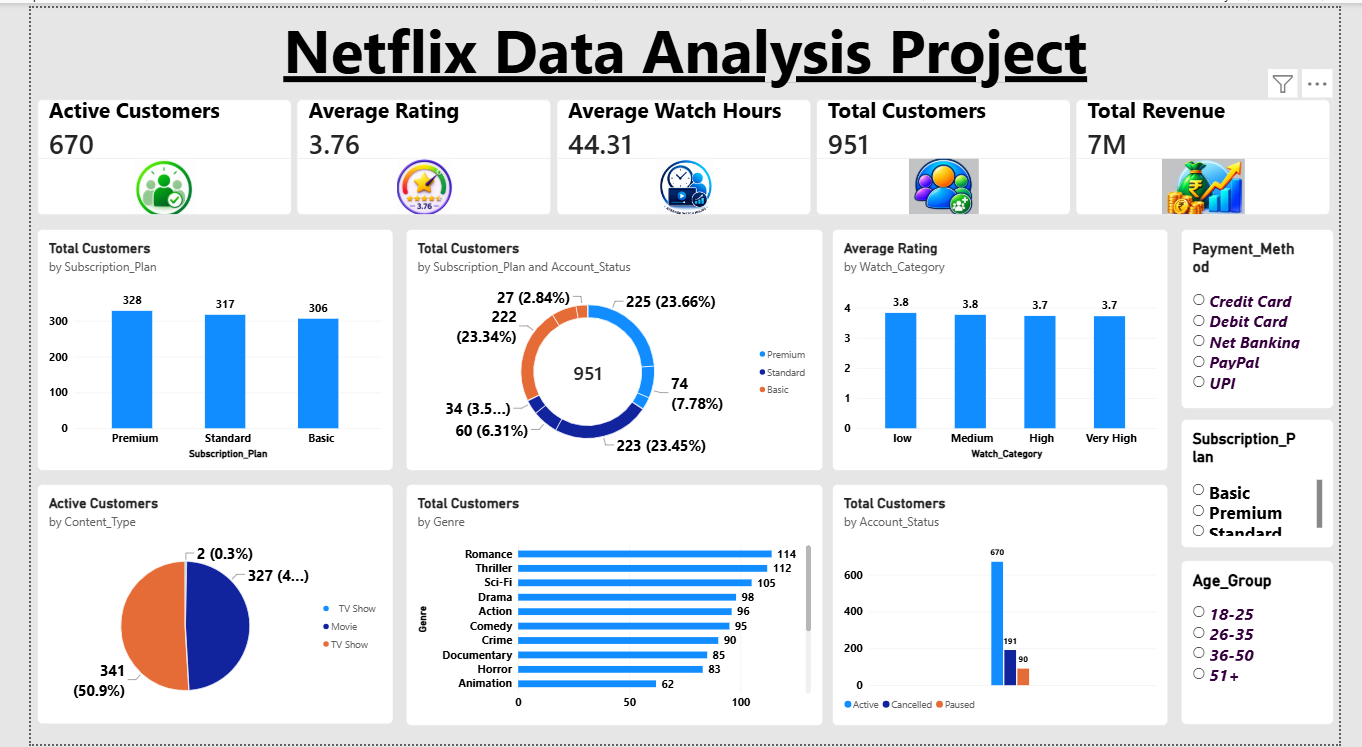

What the dashboard file says about the page in this screenshot:
{"tool":"powerbi","page":{"name":"Page 1","canvas":[1920,1080],"ordinal":0},"visuals":[{"type":"textbox","box":[0,0,1920,204],"z":0},{"type":"cardVisual","fields":{"Data":["Dax Measure.Active Customers","Dax Measure.Average Rating","Dax Measure.Average Watch Hours","Dax Measure.Total Customers","Dax Measure.Total Revenue"]},"box":[9.3,133.5,1901.8,170.5],"z":1000},{"type":"columnChart","fields":{"Y":["Dax Measure.Total Customers"],"Category":["netflix customers.Subscription_Plan"]},"box":[9.3,324.4,522.7,354],"z":2000},{"type":"barChart","fields":{"Category":["netflix customers.Genre"],"Y":["Dax Measure.Total Customers"]},"box":[550.5,698.8,611.7,354],"z":3000},{"type":"donutChart","fields":{"Category":["netflix customers.Subscription_Plan"],"Y":["Dax Measure.Total Customers"],"Series":["netflix customers.Account_Status"]},"box":[550.5,324.4,611.7,354],"z":4000},{"type":"pieChart","fields":{"Y":["Dax Measure.Active Customers"],"Series":["netflix customers.Content_Type"]},"box":[9.3,698.8,522.7,352.2],"z":5000},{"type":"listSlicer","fields":{"Values":["netflix customers.Payment_Method"]},"box":[1686.8,324.4,224.3,263.2],"z":6000},{"type":"listSlicer","fields":{"Values":["netflix customers.Subscription_Plan"]},"box":[1686.8,604.3,224.3,189.1],"z":7000},{"type":"listSlicer","fields":{"Values":["netflix customers.Age_Group"]},"box":[1686.8,810,224.3,241],"z":8000},{"type":"clusteredColumnChart","fields":{"Y":["Dax Measure.Total Customers"],"Series":["netflix customers.Account_Status"]},"box":[1175.2,698.8,493.1,354],"z":9000},{"type":"clusteredColumnChart","fields":{"Y":["Dax Measure.Average Rating"],"Category":["netflix customers.Watch_Category"]},"box":[1175.2,324.4,493.1,354],"z":10000}]}

Visuals, with their boxes in screenshot pixels (x1, y1, x2, y2), scaled from the page's 1920x1080 canvas onto the 1362x747 screenshot:
textbox: 0/0/1361/141
cardVisual - Dax Measure.Active Customers x Dax Measure.Average Rating: 7/92/1356/210
columnChart - Dax Measure.Total Customers x netflix customers.Subscription_Plan: 7/224/377/469
barChart - netflix customers.Genre x Dax Measure.Total Customers: 391/483/824/728
donutChart - netflix customers.Subscription_Plan x Dax Measure.Total Customers: 391/224/824/469
pieChart - Dax Measure.Active Customers x netflix customers.Content_Type: 7/483/377/727
listSlicer - netflix customers.Payment_Method: 1197/224/1356/406
listSlicer - netflix customers.Subscription_Plan: 1197/418/1356/549
listSlicer - netflix customers.Age_Group: 1197/560/1356/727
clusteredColumnChart - Dax Measure.Total Customers x netflix customers.Account_Status: 834/483/1183/728
clusteredColumnChart - Dax Measure.Average Rating x netflix customers.Watch_Category: 834/224/1183/469
